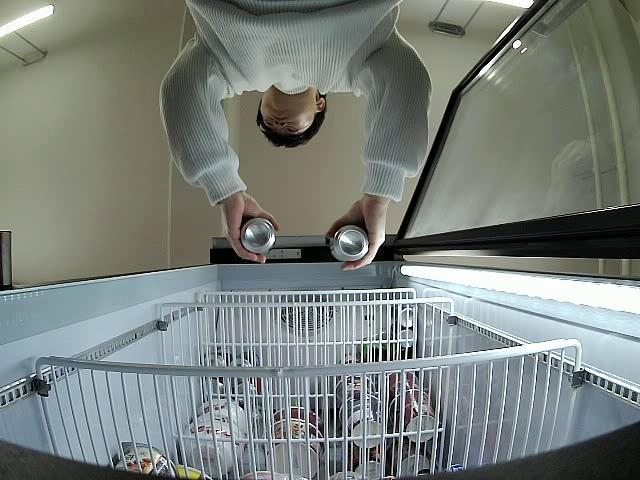12_chilsungCider: (327, 223, 370, 263), (238, 214, 278, 255)
